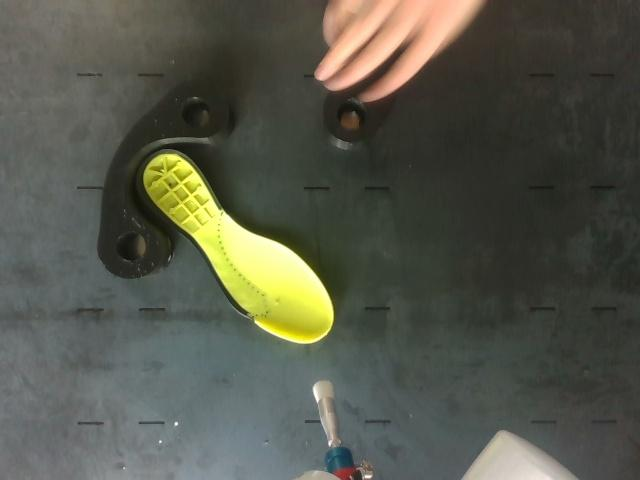shoes: (137, 149, 334, 343)
